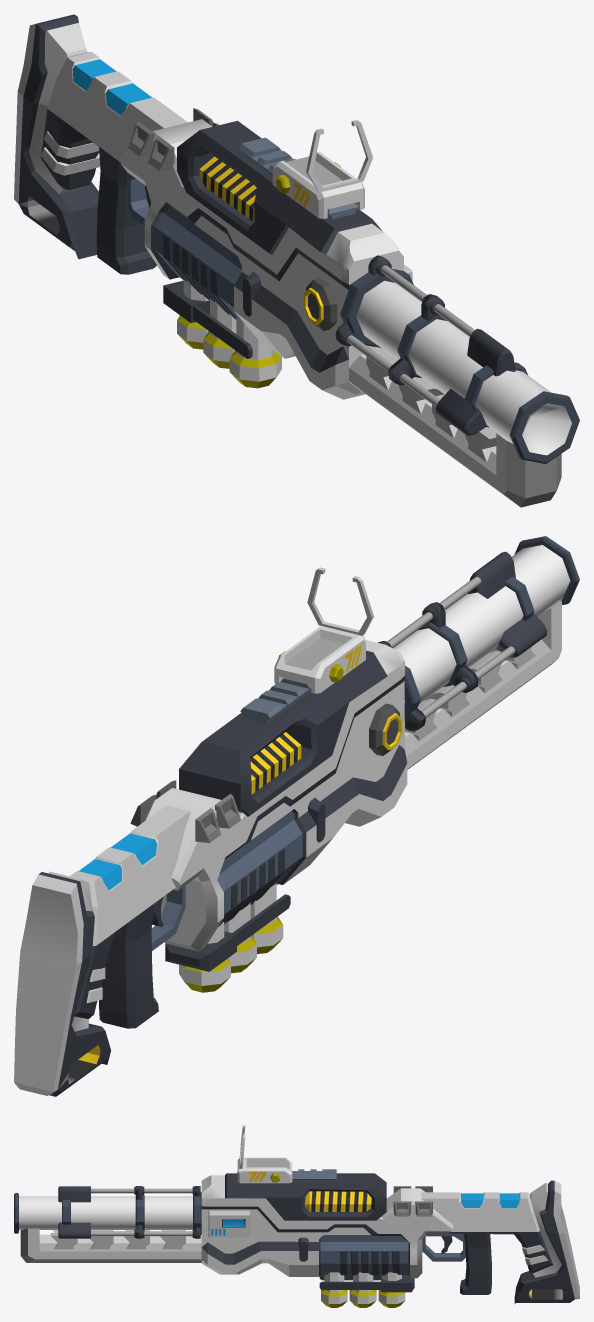
File: ThrowLauncher.fbx
3 views of the same model, one above another, from view 1: azimuth 30°, elevation 25°; view 2: azimuth 150°, elevation 25°; view 3: azimuth 270°, elevation 25° (orthographic). The views are drawn at different scales.
Visible parts, largest first — view 1: ThrowLauncher; view 2: ThrowLauncher; view 3: ThrowLauncher.
Part boxes in pixels (bbox=[...]): ThrowLauncher: bbox=[14, 14, 579, 507]; ThrowLauncher: bbox=[14, 536, 579, 1096]; ThrowLauncher: bbox=[14, 1125, 579, 1307].
Bounding box in the file's own units: 0.2243 × 0.7955 × 2.35.
